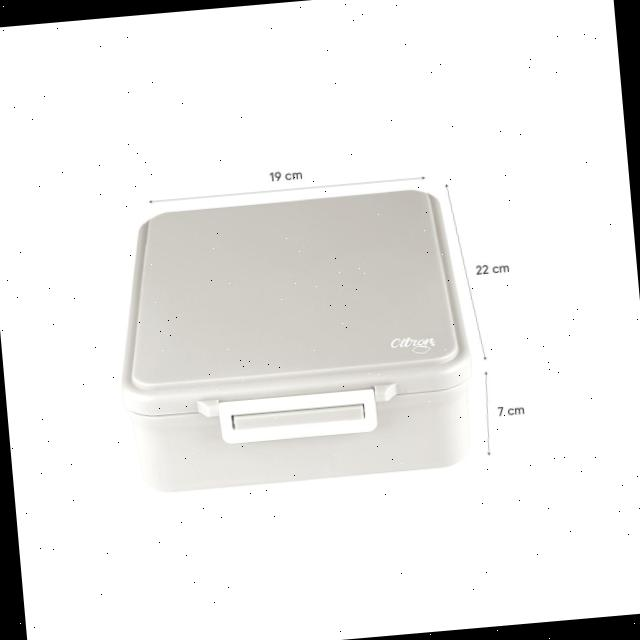styrofoam: (104, 183, 482, 497)
